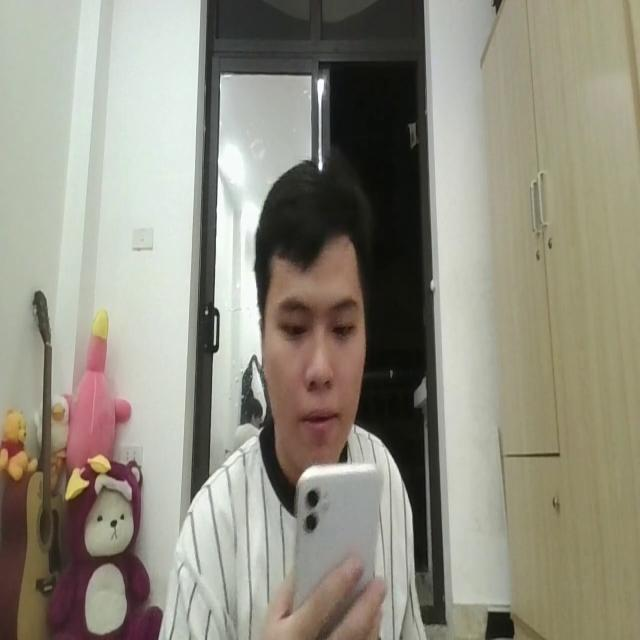phone: (293, 455, 381, 624)
student: (156, 157, 420, 640)
